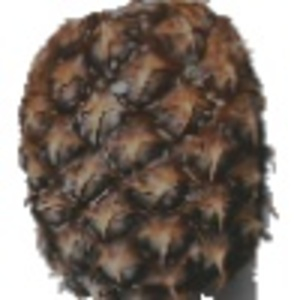abacaxi: (11, 2, 283, 291)
